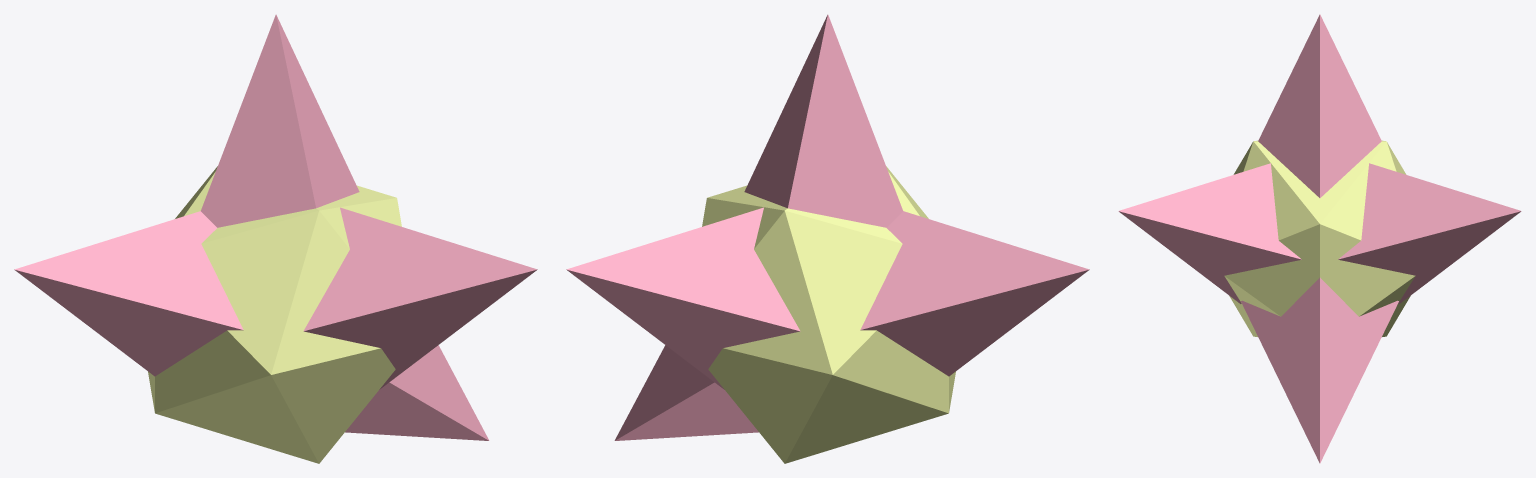
Rendered from fireball.glb.
3 views of the same model, side by side, from view 1: azimuth 30°, elevation 25°; view 2: azimuth 150°, elevation 25°; view 3: azimuth 270°, elevation 25° (orthographic). The views are drawn at different scales.
Parts seen in each view (by area): view 1: Core, Lick3, Lick1, Lick0, Lick4; view 2: Core, Lick3, Lick2, Lick0, Lick4; view 3: Core, Lick4, Lick1, Lick2, Lick0.
Part boxes in pixels (x1=…): Core: x1=148, y1=166, x2=401, y2=463; Lick3: x1=14, y1=211, x2=243, y2=376; Lick1: x1=303, y1=207, x2=537, y2=389; Lick0: x1=201, y1=14, x2=359, y2=227; Lick4: x1=345, y1=345, x2=489, y2=440; Core: x1=702, y1=166, x2=955, y2=463; Lick3: x1=860, y1=211, x2=1089, y2=376; Lick2: x1=566, y1=207, x2=800, y2=389; Lick0: x1=744, y1=14, x2=902, y2=227; Lick4: x1=614, y1=345, x2=758, y2=440; Core: x1=1224, y1=140, x2=1415, y2=336; Lick4: x1=1241, y1=277, x2=1398, y2=463; Lick1: x1=1118, y1=163, x2=1301, y2=303; Lick2: x1=1338, y1=163, x2=1521, y2=303; Lick0: x1=1258, y1=14, x2=1381, y2=197.
Bounding box in the file's own units: 0.802 × 0.7723 × 0.7647.
